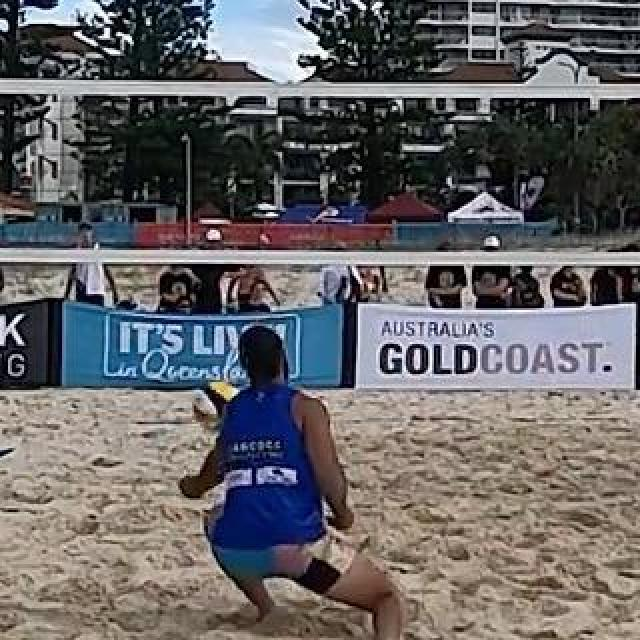volleyball: (193, 382, 245, 432)
